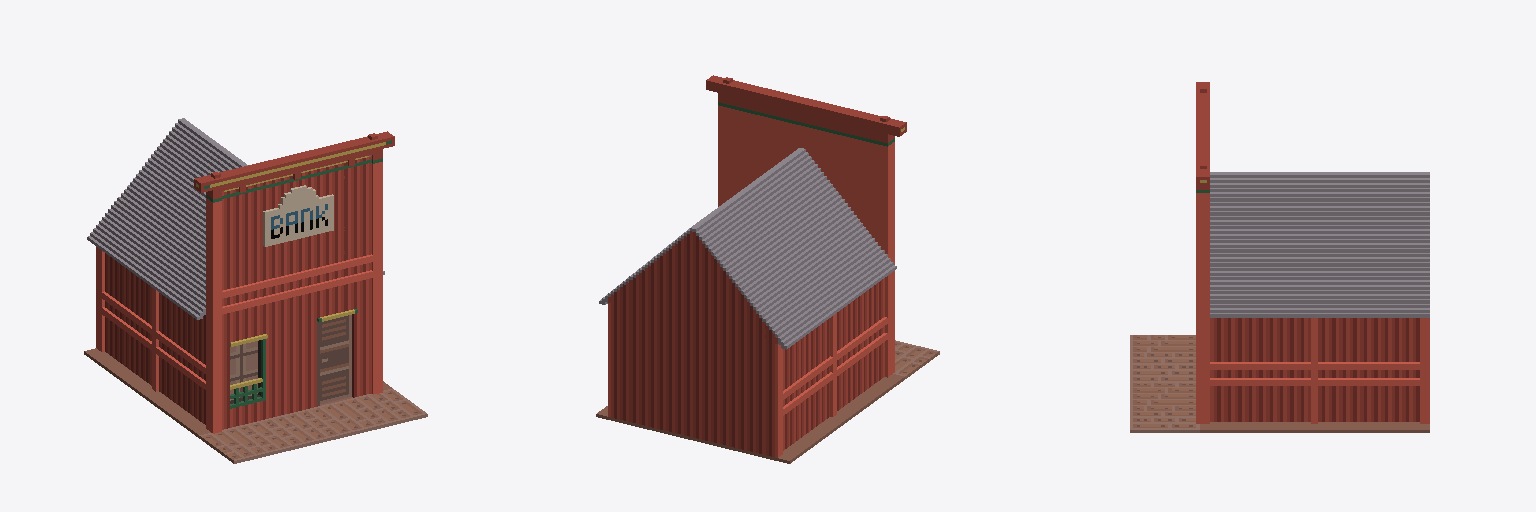
3 views of the same model, side by side, from view 1: azimuth 30°, elevation 25°; view 2: azimuth 150°, elevation 25°; view 3: azimuth 270°, elevation 25° (orthographic).
Parts seen in each view (by area): view 1: default; view 2: default; view 3: default.
Boxes of the visible parts, box(x1,y1,x2,y2) form: default: box(84, 118, 427, 463); default: box(596, 75, 939, 463); default: box(1130, 82, 1429, 432).
Bounding box in the file's own units: 64 × 82 × 86.
1 materials, 1 textured.